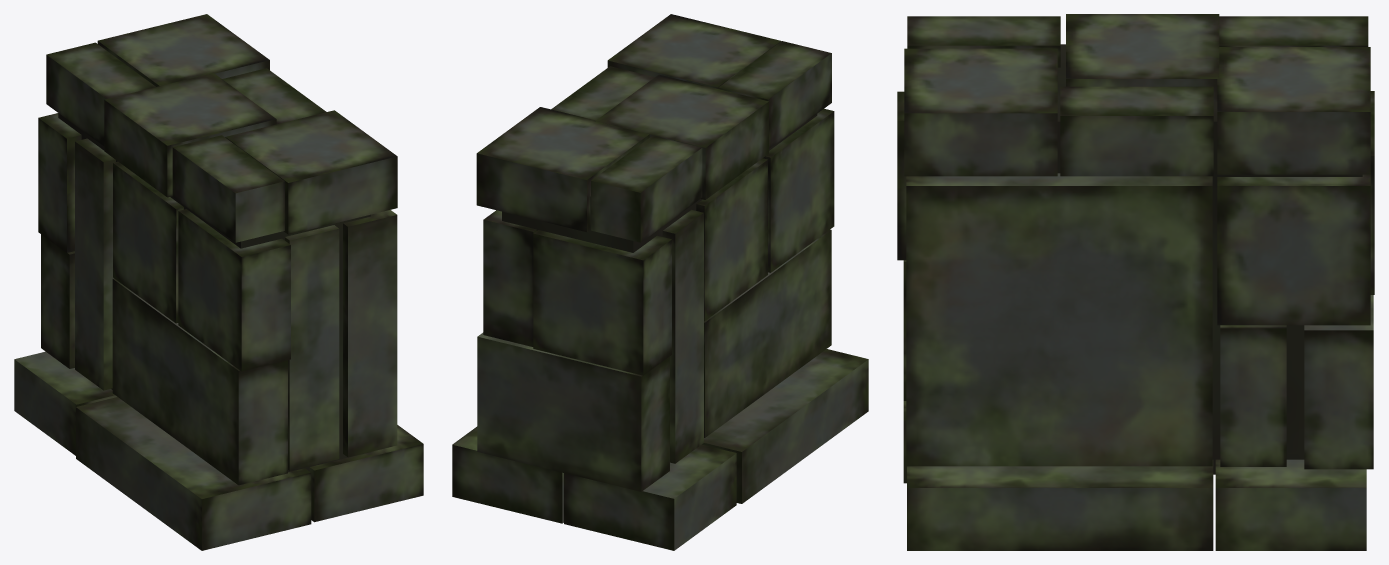
File: wall-stone01.fbx
The picture shows the model from 3 angles, left to right: view 1: azimuth 30°, elevation 25°; view 2: azimuth 150°, elevation 25°; view 3: azimuth 270°, elevation 25°; orthographic projection. The views are drawn at different scales.
Parts seen in each view (by area): view 1: wall1_brick_square_small_low16, Unity_Cube_1m1; view 2: wall1_brick_square_small_low16, Unity_Cube_1m1; view 3: wall1_brick_square_small_low16, Unity_Cube_1m1.
Part boxes in pixels (bbox=[...]): wall1_brick_square_small_low16: bbox=[14, 14, 423, 550]; Unity_Cube_1m1: bbox=[58, 113, 370, 472]; wall1_brick_square_small_low16: bbox=[452, 14, 868, 550]; Unity_Cube_1m1: bbox=[502, 114, 817, 252]; wall1_brick_square_small_low16: bbox=[897, 14, 1374, 550]; Unity_Cube_1m1: bbox=[1057, 44, 1362, 474].
Size of the model in its own units: 132 by 197 by 201.
